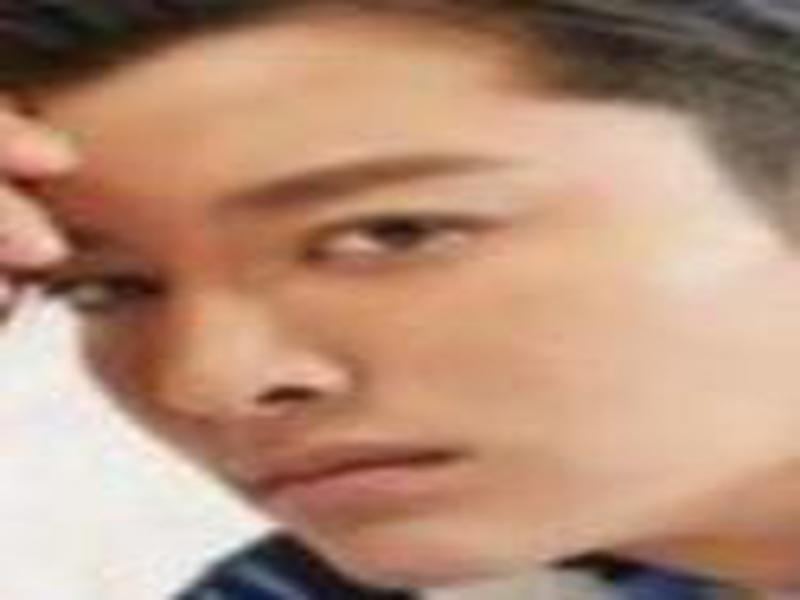without_mask: (8, 47, 784, 584)
